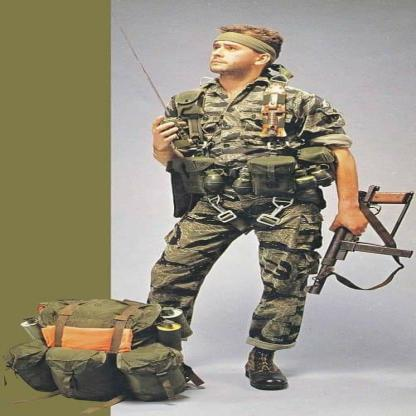Grenade: (152, 318, 184, 354), (162, 306, 194, 337), (20, 316, 47, 346), (200, 167, 228, 194), (292, 168, 320, 194), (311, 163, 337, 186), (233, 170, 254, 195)
Gun: (303, 183, 415, 296)
Knife: (264, 84, 287, 139)
